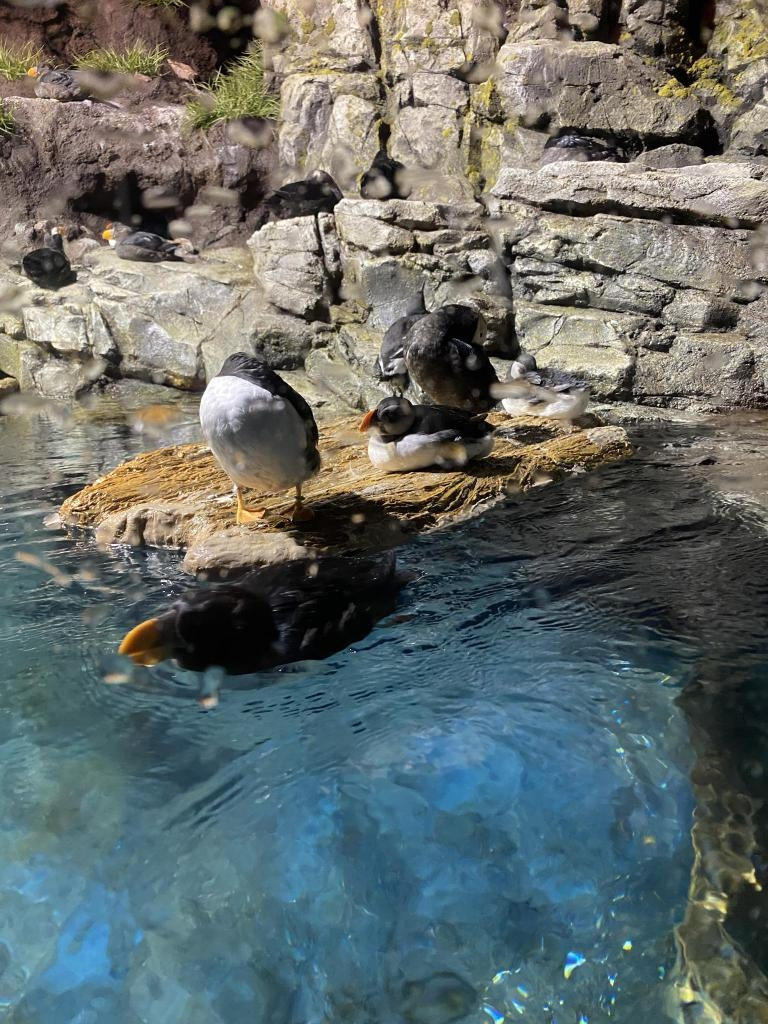puffin: (119, 552, 415, 678), (200, 346, 322, 526), (408, 299, 542, 403), (360, 397, 504, 473), (376, 302, 446, 408), (260, 166, 346, 222), (20, 216, 76, 290), (104, 218, 184, 260)
